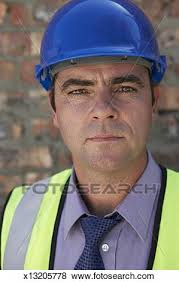Person_wearing_helmet: (23, 0, 165, 112)
